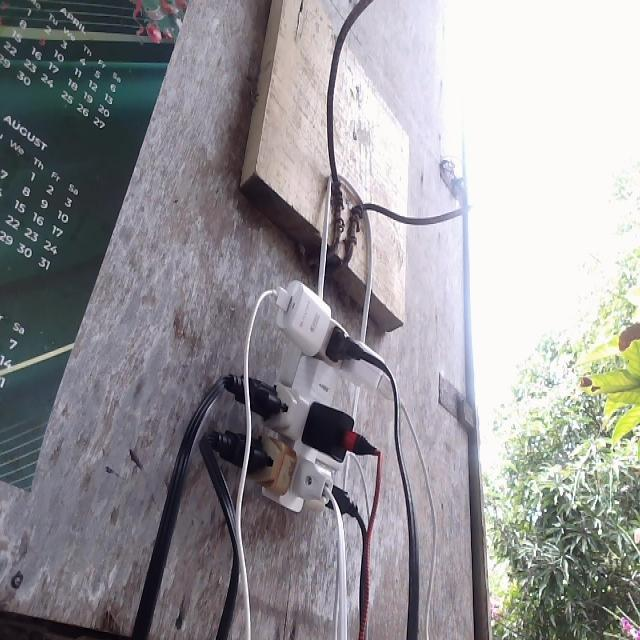-: (204, 281, 388, 512)
